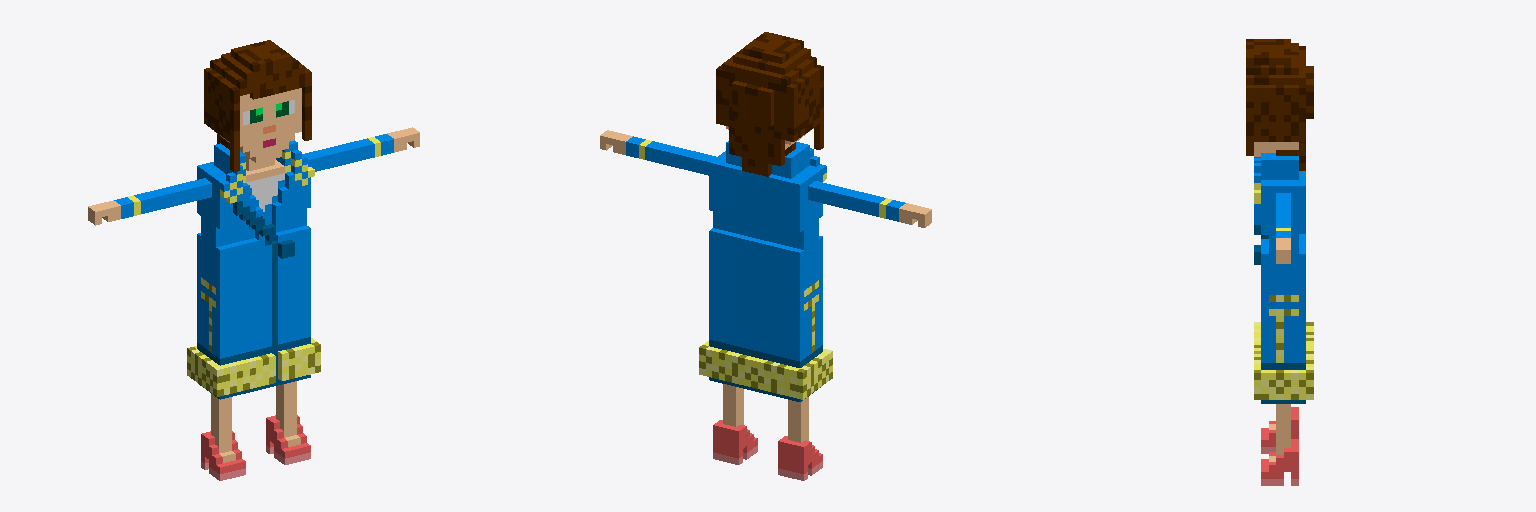
3 renders of one model, left to right at view 1: azimuth 30°, elevation 25°; view 2: azimuth 150°, elevation 25°; view 3: azimuth 270°, elevation 25°, orthographic.
Parts seen in each view (by area): view 1: object 1; view 2: object 1; view 3: object 1.
Part boxes in pixels (left/top/right/bottom): object 1: left=88, top=40, right=419, bottom=480; object 1: left=600, top=32, right=931, bottom=480; object 1: left=1246, top=39, right=1313, bottom=485.
Bounding box in the file's own units: 5 × 6.1 × 0.9.
Materials: 1 (1 with a texture image).